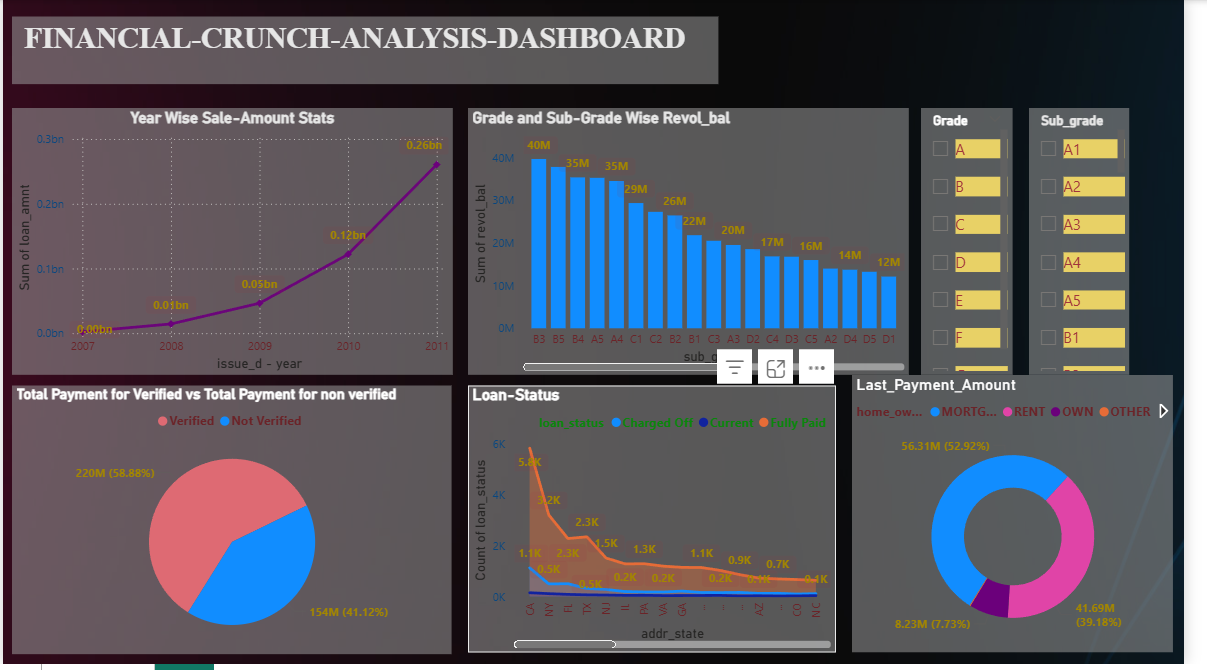

The page's visual inventory and layout, read from the dashboard file:
{"tool":"powerbi","page":{"name":"Page 1","canvas":[1280,720],"ordinal":0},"visuals":[{"type":"lineChart","title":"Year Wise Sale-Amount Stats","fields":{"Category":["Merge14.issue_d - year"],"Y":["Sum(Merge14.loan_amnt)"]},"box":[9.8,117.1,478.2,289.5],"z":0},{"type":"clusteredColumnChart","title":"Grade and Sub-Grade Wise Revol_bal","fields":{"Category":["Merge14.sub_grade"],"Y":["Sum(Merge14.revol_bal)"]},"box":[504.2,117.1,478.2,289.5],"z":1000},{"type":"slicer","fields":{"Values":["Merge14.grade"]},"box":[995.4,117.1,99.2,289.5],"z":2000},{"type":"slicer","fields":{"Values":["Merge14.sub_grade"]},"box":[1112.6,117.1,109,289.5],"z":3000},{"type":"pieChart","title":"Total Payment for Verified vs Total Payment for non verified","fields":{"Category":["Merge14.verification_status"],"Y":["Sum(Merge14.total_pymnt)"]},"box":[9.8,418,476.6,291.2],"z":4000},{"type":"areaChart","title":"Loan-Status","fields":{"Category":["Merge14.addr_state"],"Series":["Merge14.loan_status"],"Y":["CountNonNull(Merge14.loan_status)"]},"box":[504.2,418,398.5,289.5],"z":5000},{"type":"donutChart","title":"Last_Payment_Amount","fields":{"Category":["Merge14.home_ownership"],"Y":["Sum(Merge14.last_pymnt_amnt)"]},"box":[920.6,406.6,348.1,300.9],"z":6000},{"type":"textbox","box":[9.8,17.9,766.1,73.2],"z":6001}]}

Visuals, with their boxes in screenshot pixels (x1, y1, x2, y2), scaled from the page's 1280x720 canvas onto the 1207x670 screenshot:
"Year Wise Sale-Amount Stats" lineChart: 9:109:460:378
"Grade and Sub-Grade Wise Revol_bal" clusteredColumnChart: 475:109:926:378
slicer - Merge14.grade: 939:109:1032:378
slicer - Merge14.sub_grade: 1049:109:1152:378
"Total Payment for Verified vs Total Payment for non verified" pieChart: 9:389:459:660
"Loan-Status" areaChart: 475:389:851:658
"Last_Payment_Amount" donutChart: 868:378:1196:658
textbox: 9:17:732:85
